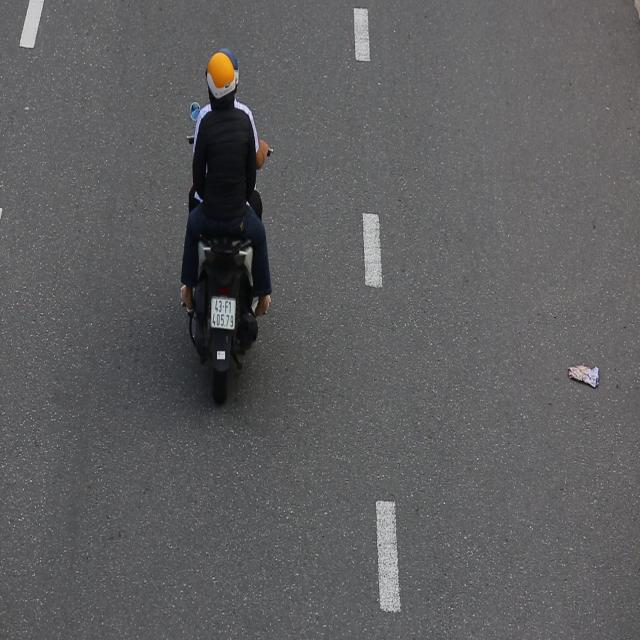motorbike: (172, 19, 276, 407)
